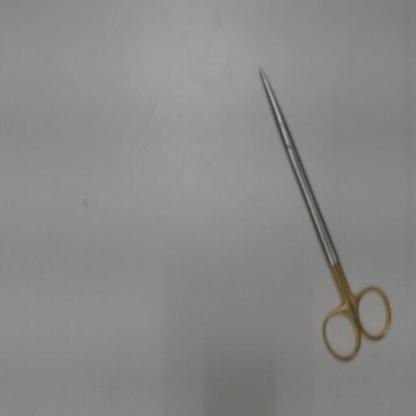7 Metzenbaum Scissors: (256, 60, 396, 368)
